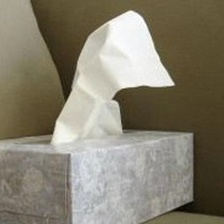book: (0, 122, 200, 224)
tissue: (44, 5, 180, 148)
